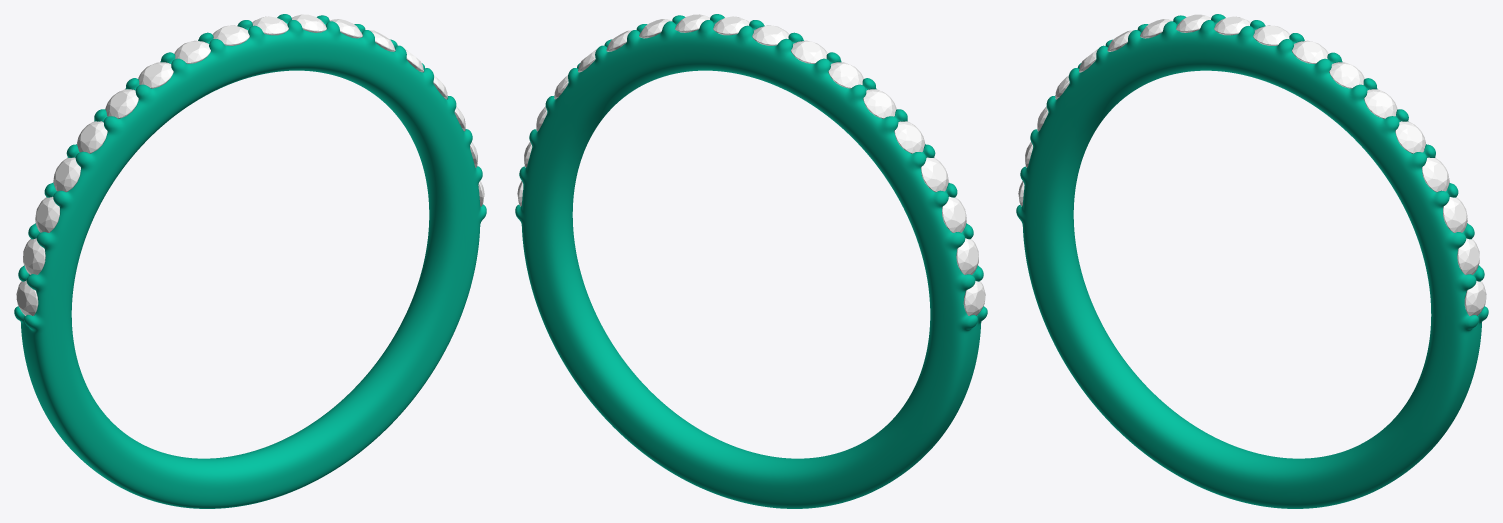
File: BE2PD25R25LC_RENDER.glb
3 views of the same model, side by side, from view 1: azimuth 30°, elevation 25°; view 2: azimuth 150°, elevation 25°; view 3: azimuth 330°, elevation 25° (orthographic).
Parts seen in each view (by area): view 1: Metal03, Diamond_Round_Gem_BD.013, Diamond_Round_Gem_BD.014, Diamond_Round_Gem_BD.012, Diamond_Round_Gem_BD.015, Diamond_Round_Gem_BD.011, Diamond_Round_Gem_BD.016, Diamond_Round_Gem_BD.010, Diamond_Round_Gem_BD.017, Diamond_Round_Gem_BD.009; view 2: Metal03, Diamond_Round_Gem_BD.013, Diamond_Round_Gem_BD.014, Diamond_Round_Gem_BD.012, Diamond_Round_Gem_BD.015, Diamond_Round_Gem_BD.011, Diamond_Round_Gem_BD.016, Diamond_Round_Gem_BD.010, Diamond_Round_Gem_BD.017, Diamond_Round_Gem_BD.009; view 3: Metal03, Diamond_Round_Gem_BD.004, Diamond_Round_Gem_BD.003, Diamond_Round_Gem_BD.005, Diamond_Round_Gem_BD.002, Diamond_Round_Gem_BD.006, Diamond_Round_Gem_BD.001, Diamond_Round_Gem_BD.007, Diamond_Round_Gem_BD, Diamond_Round_Gem_BD.008.
Boxes of the visible parts, bbox=[...] form: Metal03: bbox=[14, 14, 486, 508]; Diamond_Round_Gem_BD.013: bbox=[77, 121, 107, 153]; Diamond_Round_Gem_BD.014: bbox=[53, 157, 80, 192]; Diamond_Round_Gem_BD.012: bbox=[105, 89, 138, 118]; Diamond_Round_Gem_BD.015: bbox=[35, 196, 59, 232]; Diamond_Round_Gem_BD.011: bbox=[138, 62, 173, 88]; Diamond_Round_Gem_BD.016: bbox=[23, 238, 45, 274]; Diamond_Round_Gem_BD.010: bbox=[174, 40, 210, 63]; Diamond_Round_Gem_BD.017: bbox=[16, 280, 38, 315]; Diamond_Round_Gem_BD.009: bbox=[212, 25, 249, 45]; Metal03: bbox=[515, 14, 987, 508]; Diamond_Round_Gem_BD.013: bbox=[894, 121, 925, 153]; Diamond_Round_Gem_BD.014: bbox=[921, 157, 948, 192]; Diamond_Round_Gem_BD.012: bbox=[863, 89, 896, 118]; Diamond_Round_Gem_BD.015: bbox=[942, 196, 966, 232]; Diamond_Round_Gem_BD.011: bbox=[828, 62, 863, 88]; Diamond_Round_Gem_BD.016: bbox=[956, 238, 978, 274]; Diamond_Round_Gem_BD.010: bbox=[791, 40, 827, 63]; Diamond_Round_Gem_BD.017: bbox=[963, 281, 985, 315]; Diamond_Round_Gem_BD.009: bbox=[752, 25, 789, 45]; Metal03: bbox=[1016, 14, 1488, 508]; Diamond_Round_Gem_BD.004: bbox=[1395, 121, 1425, 153]; Diamond_Round_Gem_BD.003: bbox=[1422, 157, 1449, 192]; Diamond_Round_Gem_BD.005: bbox=[1364, 89, 1397, 118]; Diamond_Round_Gem_BD.002: bbox=[1443, 197, 1467, 232]; Diamond_Round_Gem_BD.006: bbox=[1329, 62, 1364, 88]; Diamond_Round_Gem_BD.001: bbox=[1457, 238, 1479, 274]; Diamond_Round_Gem_BD.007: bbox=[1292, 40, 1328, 63]; Diamond_Round_Gem_BD: bbox=[1464, 281, 1486, 315]; Diamond_Round_Gem_BD.008: bbox=[1253, 25, 1290, 45].
Size of the model in its own units: 20.87 by 20.58 by 1.8.
